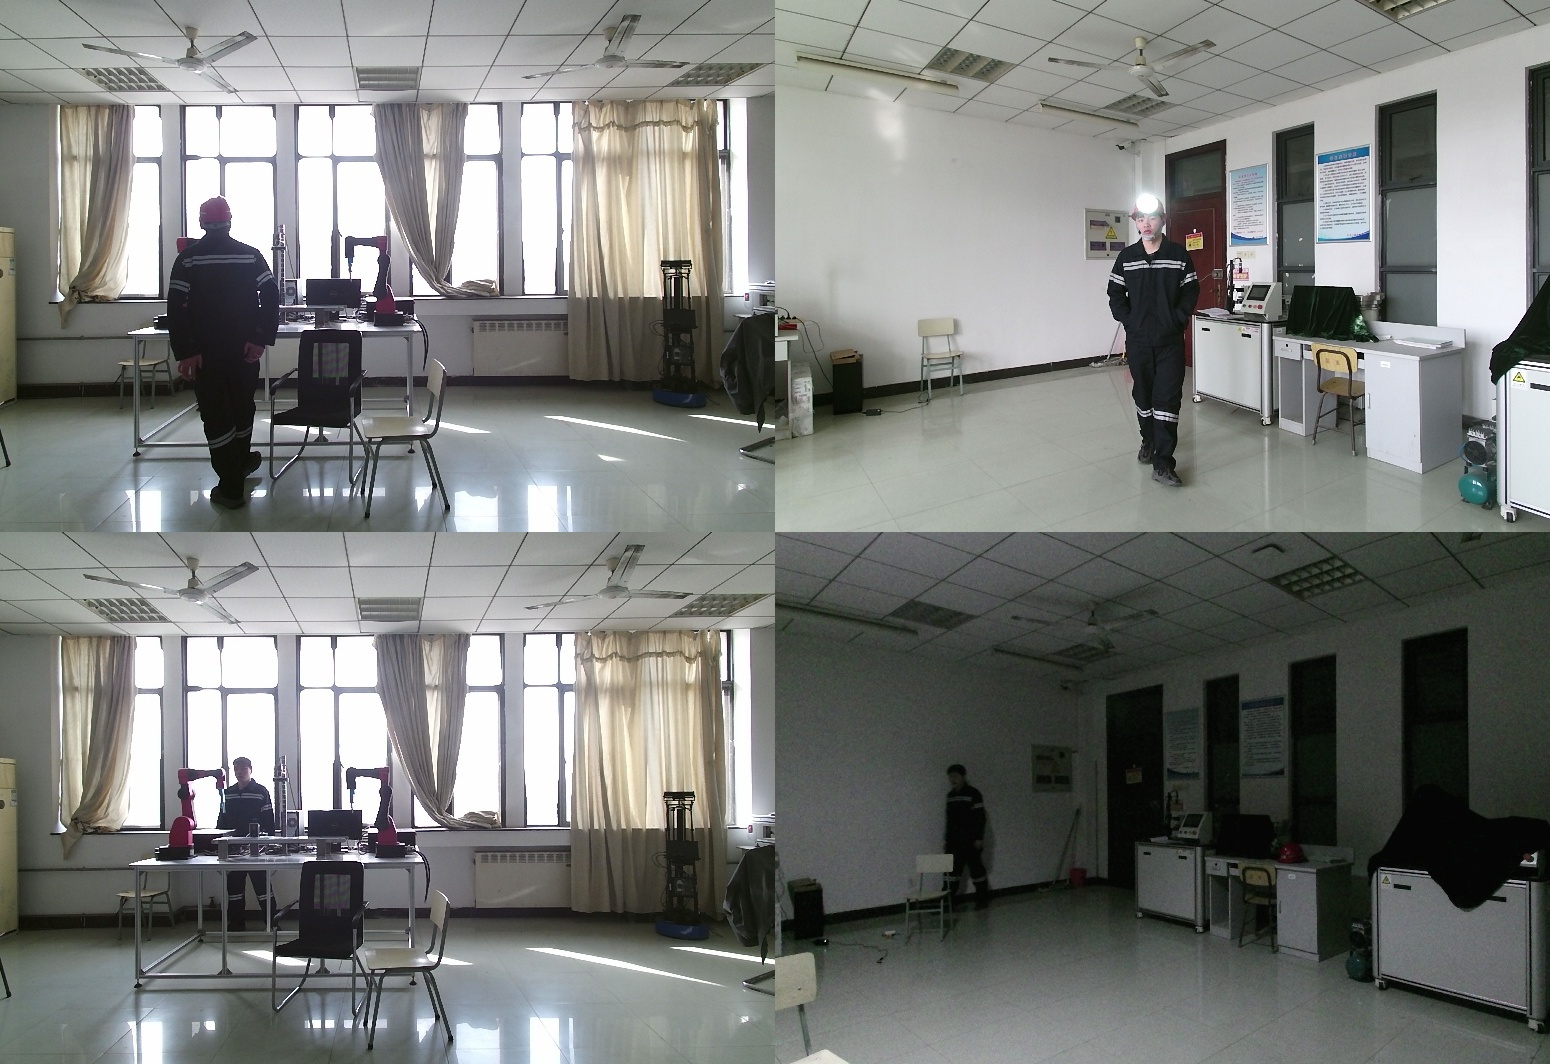person: (165, 198, 283, 509), (1105, 199, 1209, 490), (216, 760, 280, 932), (941, 767, 994, 916)
